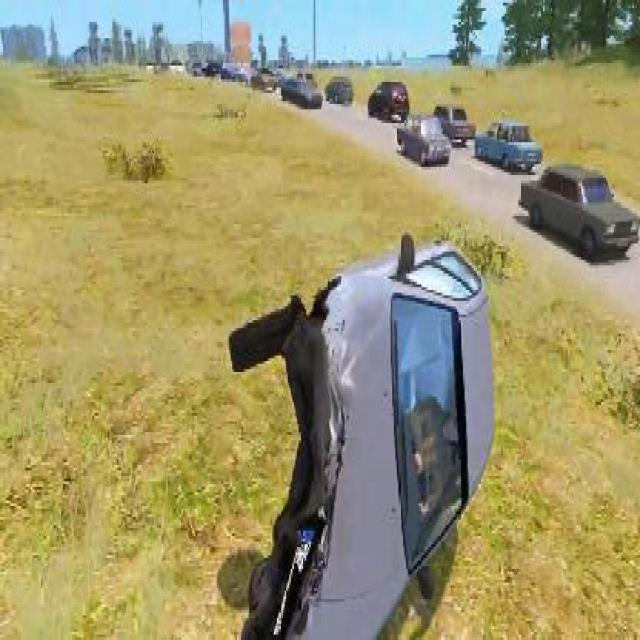accident: (222, 216, 502, 637)
